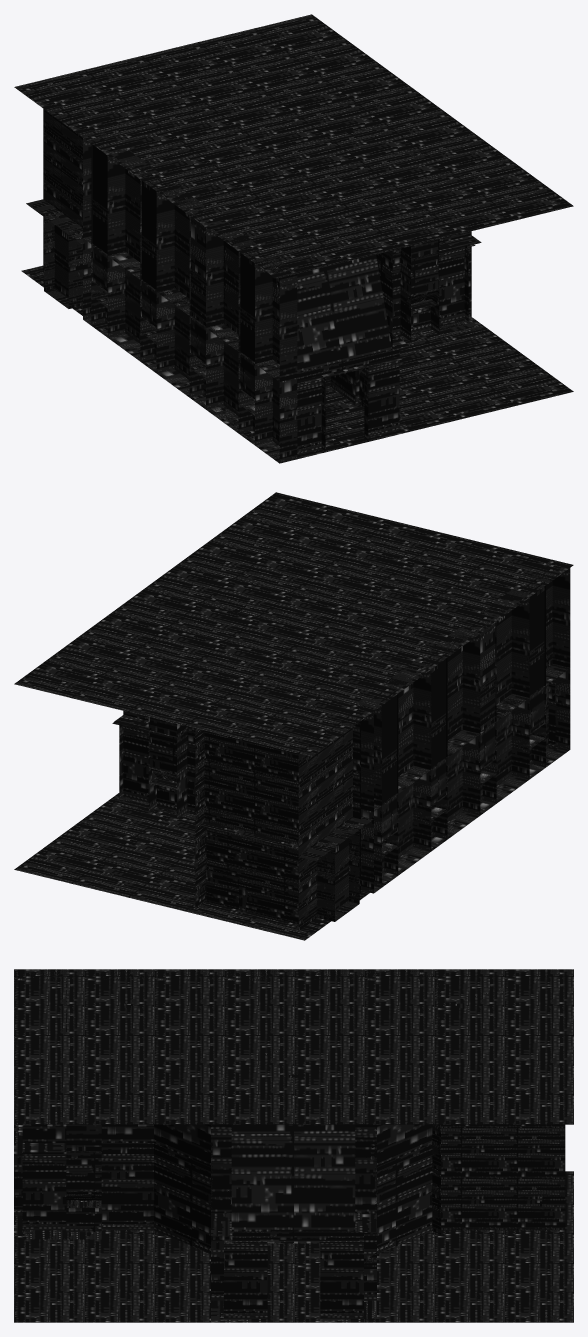
File: room2c2_opt.obj
The picture shows the model from 3 angles, top to bottom: view 1: azimuth 30°, elevation 25°; view 2: azimuth 150°, elevation 25°; view 3: azimuth 270°, elevation 25°; orthographic projection. The views are drawn at different scales.
Bounding box in the file's own units: 1344 × 801 × 2048.
